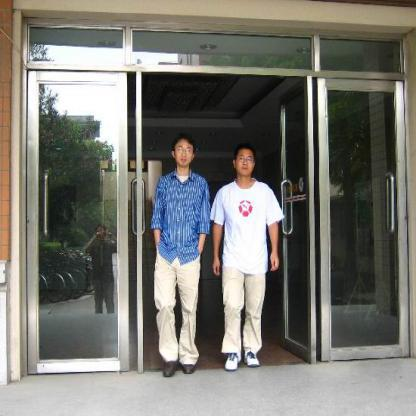person: (209, 143, 287, 370), (144, 133, 211, 379)
